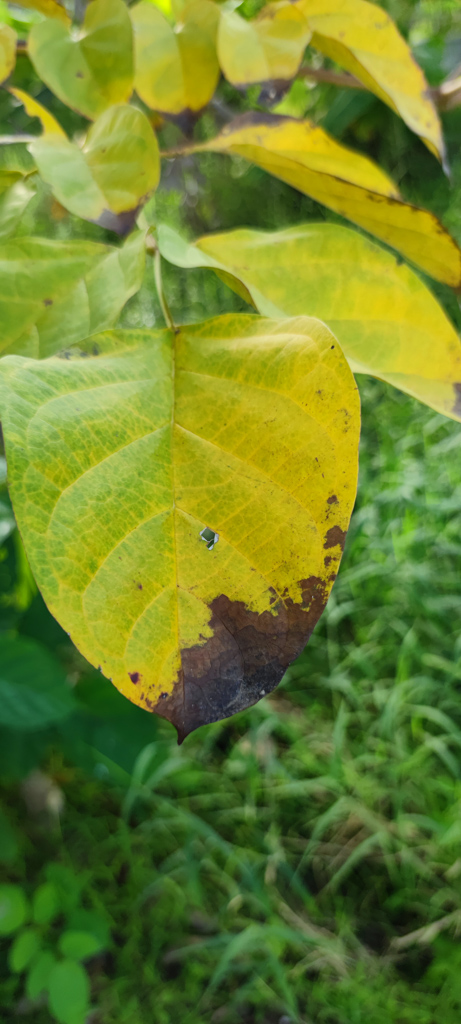Pepper yellow leaf: (14, 305, 347, 746), (205, 217, 456, 435), (206, 0, 453, 180), (211, 111, 460, 278), (17, 5, 227, 121), (19, 101, 176, 241)
